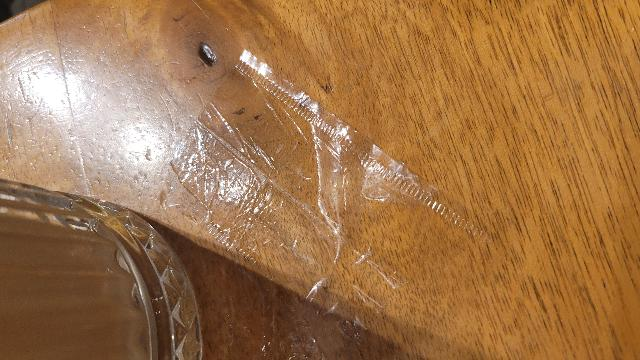Plastik: (189, 45, 484, 299)
